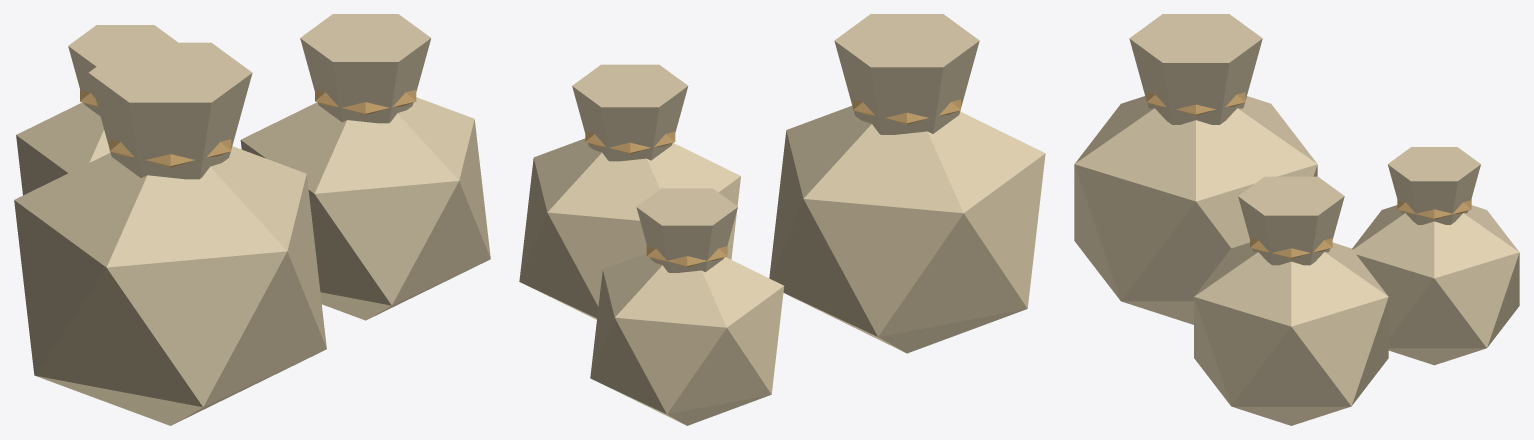
File: SM_Money_Bags.obj
3 renders of one model, left to right at view 1: azimuth 30°, elevation 25°; view 2: azimuth 150°, elevation 25°; view 3: azimuth 270°, elevation 25°, orthographic. The views are drawn at different scales.
Parts seen in each view (by area): view 1: SM_Money_Bags; view 2: SM_Money_Bags; view 3: SM_Money_Bags.
Part boxes in pixels (x1=…): SM_Money_Bags: x1=14, y1=14, x2=490, y2=425; SM_Money_Bags: x1=519, y1=14, x2=1045, y2=425; SM_Money_Bags: x1=1074, y1=14, x2=1519, y2=425.
Size of the model in its own units: 0.4915 by 0.3325 by 0.4669.
